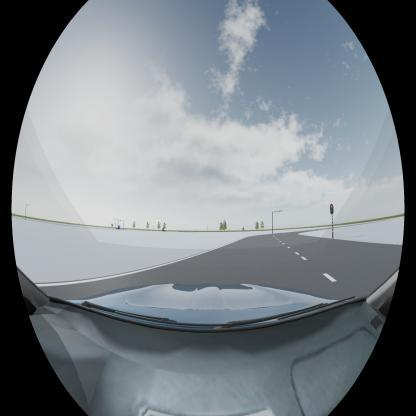Red Light: (330, 204, 334, 214)
